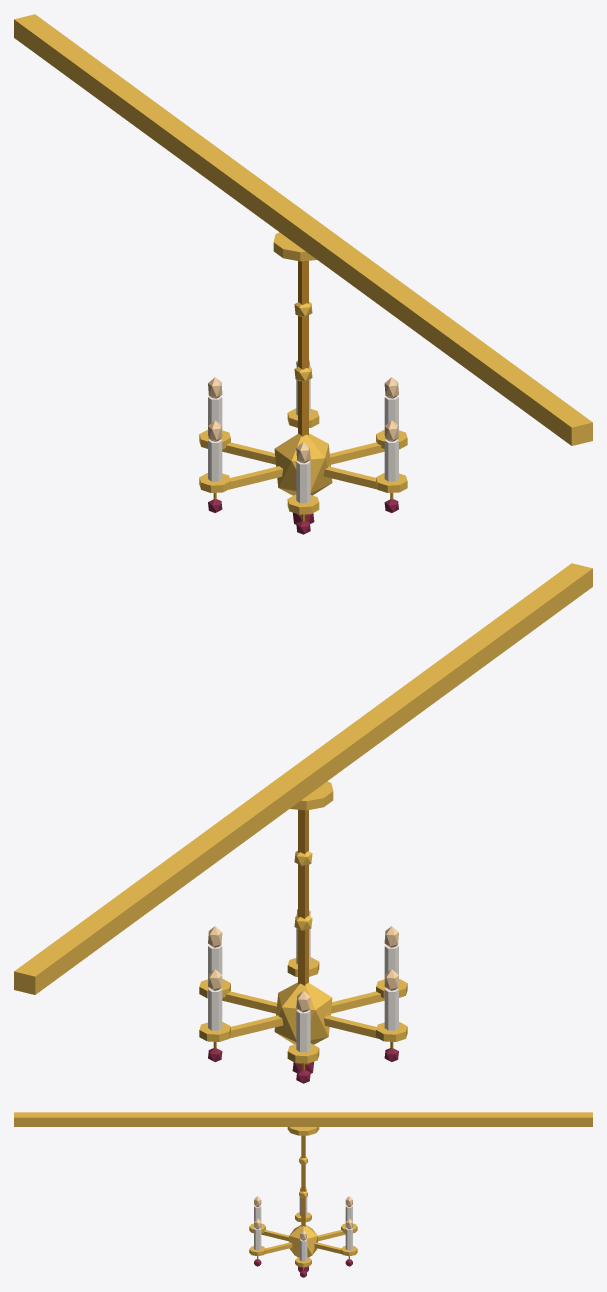
Rendered from CatCafe_Plot_ThemeGrandChandelier_60x46.glb.
The picture shows the model from 3 angles, top to bottom: view 1: azimuth 30°, elevation 25°; view 2: azimuth 150°, elevation 25°; view 3: azimuth 270°, elevation 25°; orthographic projection. The views are drawn at different scales.
Visible parts, largest first — view 1: CatCafe_Plot_ThemeGrandChandelier_60x46, CatCafe_Plot_ThemeGrandChandelier_60x46_Glow; view 2: CatCafe_Plot_ThemeGrandChandelier_60x46, CatCafe_Plot_ThemeGrandChandelier_60x46_Glow; view 3: CatCafe_Plot_ThemeGrandChandelier_60x46, CatCafe_Plot_ThemeGrandChandelier_60x46_Glow.
Boxes of the visible parts, x1=… form: CatCafe_Plot_ThemeGrandChandelier_60x46: x1=14, y1=14, x2=592, y2=534; CatCafe_Plot_ThemeGrandChandelier_60x46_Glow: x1=208, y1=360, x2=398, y2=463; CatCafe_Plot_ThemeGrandChandelier_60x46: x1=14, y1=563, x2=592, y2=1083; CatCafe_Plot_ThemeGrandChandelier_60x46_Glow: x1=208, y1=909, x2=398, y2=1012; CatCafe_Plot_ThemeGrandChandelier_60x46: x1=14, y1=1112, x2=592, y2=1277; CatCafe_Plot_ThemeGrandChandelier_60x46_Glow: x1=254, y1=1187, x2=352, y2=1240.
Size of the model in its own units: 2.32 by 3.32 by 10.94.
1 material, 1 textured.
